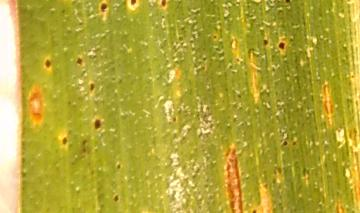tarspot: (42, 57, 54, 70), (93, 116, 102, 133), (98, 3, 111, 14), (276, 40, 287, 52), (73, 56, 84, 66), (88, 81, 96, 94), (158, 1, 171, 9), (261, 38, 271, 48), (111, 194, 122, 203), (61, 136, 69, 148), (282, 138, 289, 150), (283, 1, 293, 8), (129, 1, 138, 8)
